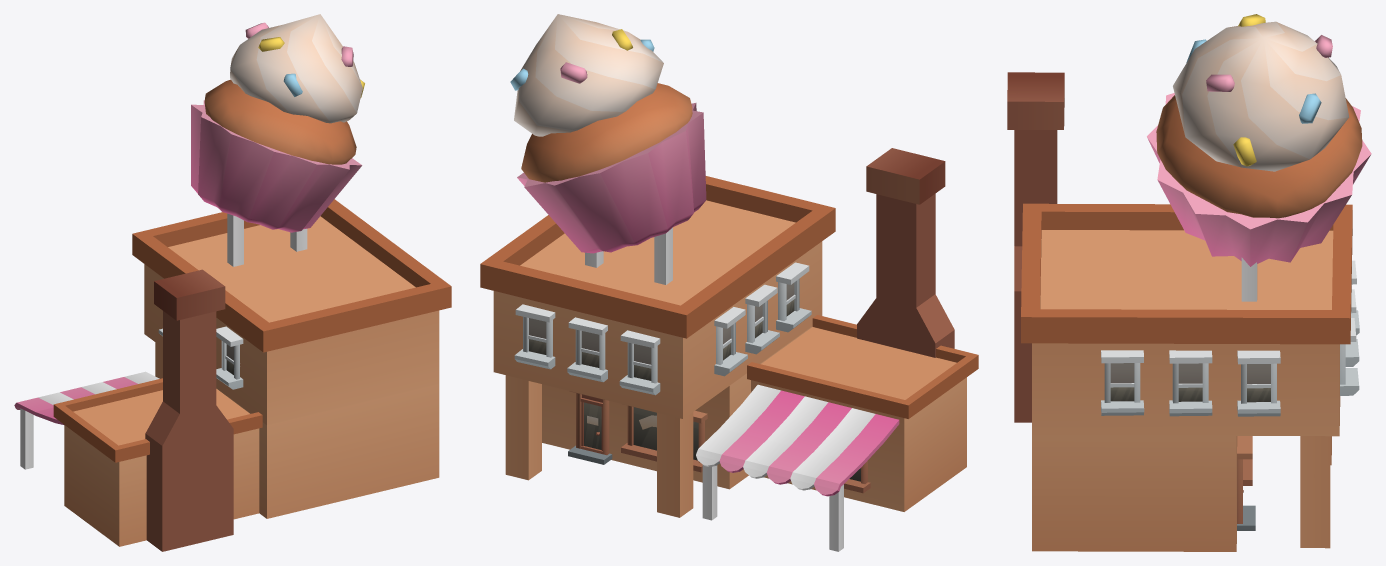
Rendered from PASTELERIA TITO.fbx.
3 views of the same model, side by side, from view 1: azimuth 30°, elevation 25°; view 2: azimuth 150°, elevation 25°; view 3: azimuth 270°, elevation 25° (orthographic). The views are drawn at different scales.
Parts seen in each view (by area): view 1: building_A.004; view 2: building_A.004; view 3: building_A.004.
Part boxes in pixels (x1=…): building_A.004: x1=14, y1=14, x2=451, y2=551; building_A.004: x1=480, y1=14, x2=978, y2=551; building_A.004: x1=1007, y1=14, x2=1371, y2=551.
Bounding box in the file's own units: 1879 × 1432 × 2159.
4 materials, 4 textured.
